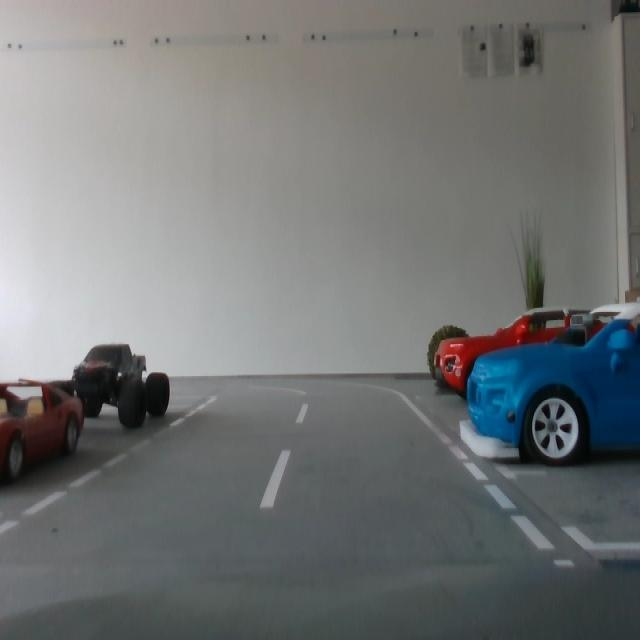car: (467, 313, 640, 466), (431, 308, 640, 398), (70, 341, 173, 432), (1, 378, 85, 484)
potted plant: (512, 211, 547, 356), (427, 322, 472, 381)
